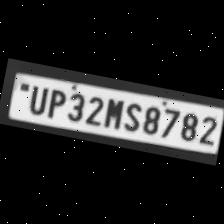2: (196, 112, 222, 147), (82, 92, 106, 127)
3: (61, 88, 88, 123)
7: (156, 104, 180, 140)
8: (174, 108, 202, 143), (138, 102, 163, 137)
M: (100, 94, 126, 130)
P: (42, 84, 68, 119)
S: (119, 99, 144, 134)
U: (23, 82, 49, 116)
